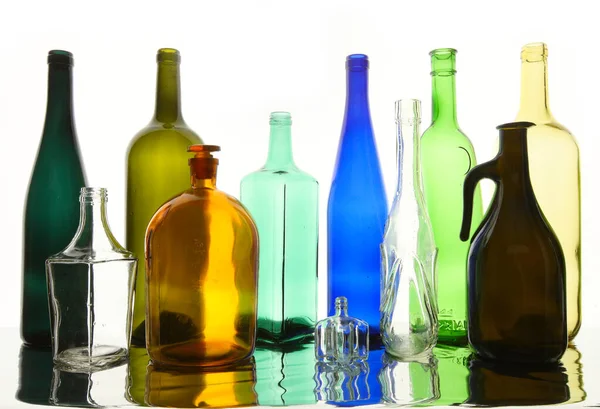glass_bottle: (9, 37, 600, 371)
